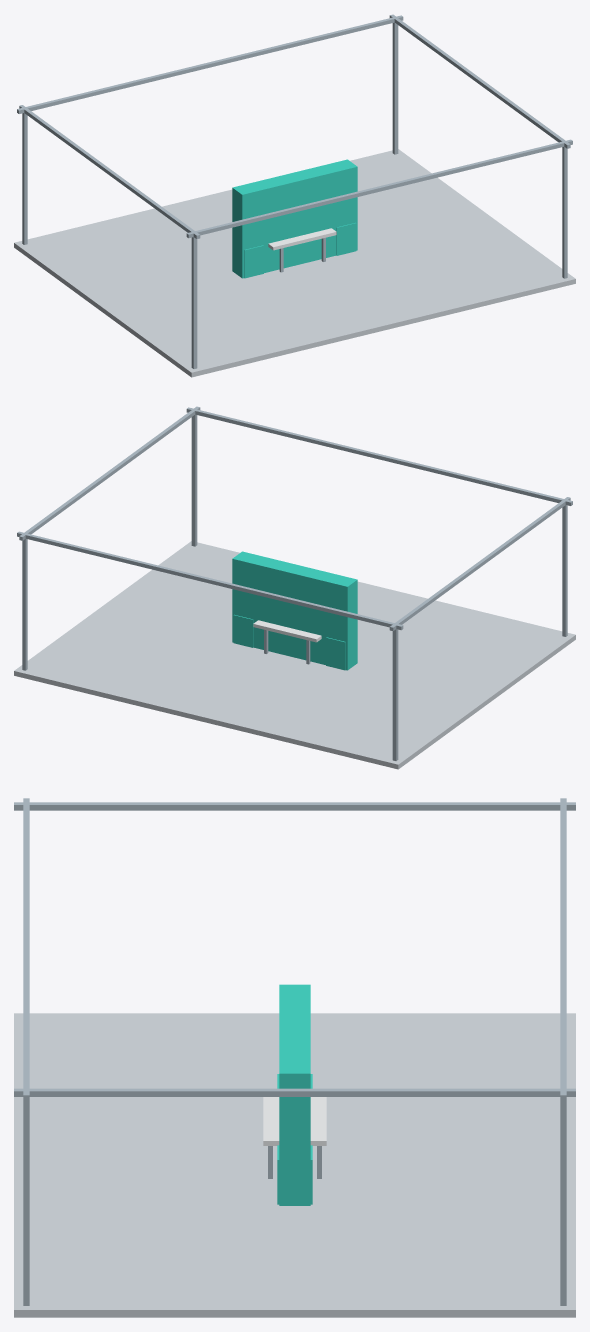
3 renders of one model, top to bottom at view 1: azimuth 30°, elevation 25°; view 2: azimuth 150°, elevation 25°; view 3: azimuth 270°, elevation 25°, orthographic. The views are drawn at different scales.
Visible parts, largest first — view 1: Exhibition Booth Concept; view 2: Exhibition Booth Concept; view 3: Exhibition Booth Concept.
Part boxes in pixels (<box>): Exhibition Booth Concept: <box>14,14,575,377</box>; Exhibition Booth Concept: <box>14,406,575,769</box>; Exhibition Booth Concept: <box>14,798,575,1317</box>.
Size of the model in its own units: 10 by 3.49 by 8.
